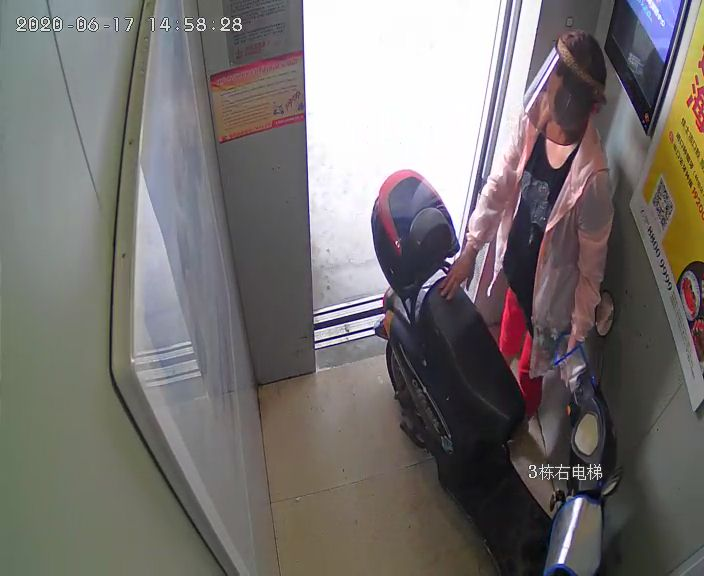Electric-bicycle: (374, 169, 616, 576)
